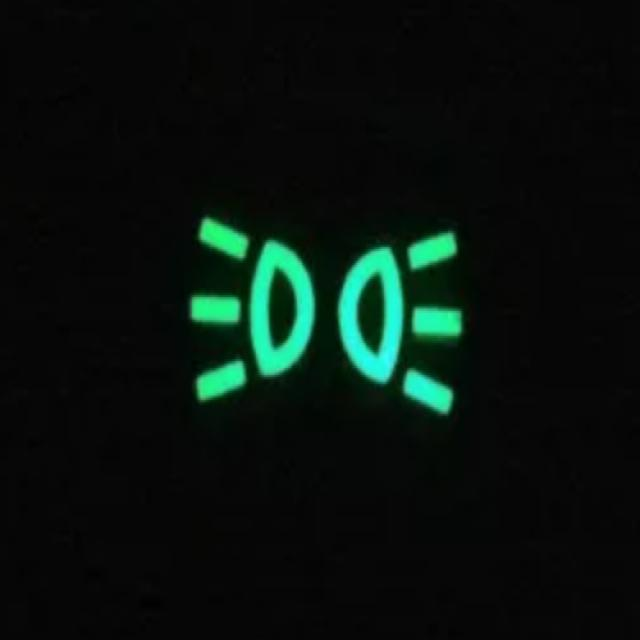kontrolka: (179, 183, 492, 439)
